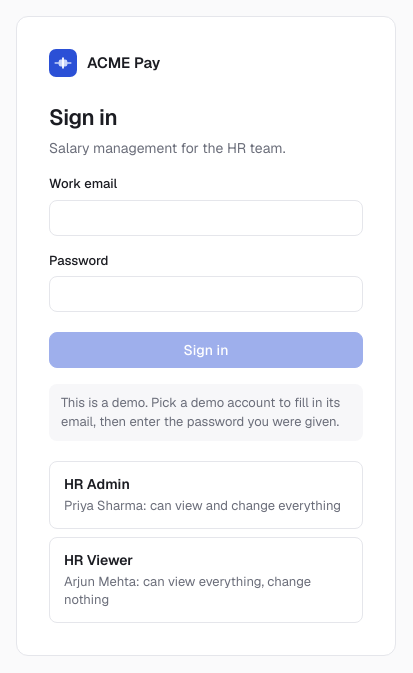
Scenario: Sign in › a demo account fills its email and moves to the password
The width and height of the screenshot is (413, 673).
Click the button "HR Viewer Arjun Mehta: can view everything, change nothing".
click(206, 580)  # box [49,537,363,623]
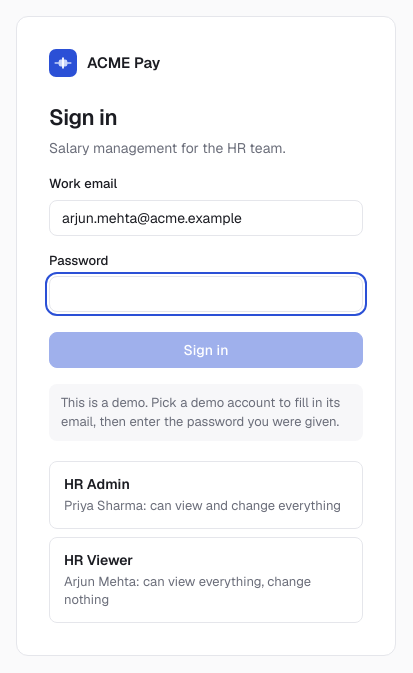
expect the field labelled "Work email" holds "arjun.mehta@acme.example": met, box [49,200,363,236]
